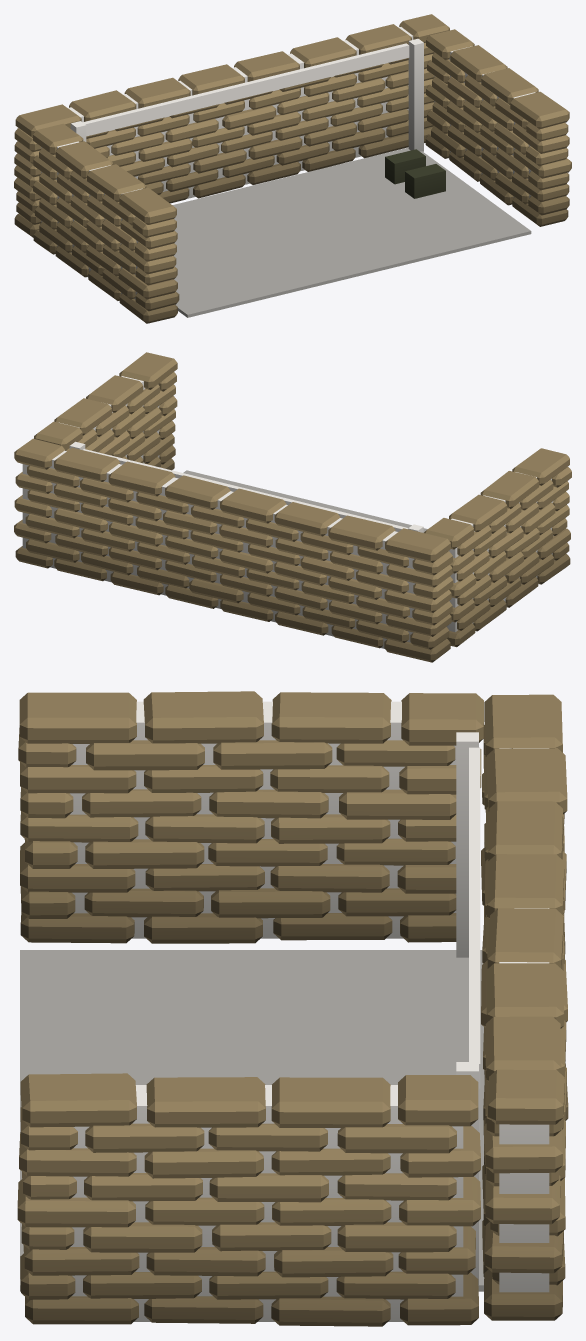
File: fighting_position.glb
The picture shows the model from 3 angles, top to bottom: view 1: azimuth 30°, elevation 25°; view 2: azimuth 150°, elevation 25°; view 3: azimuth 270°, elevation 25°; orthographic projection. The views are drawn at different scales.
Parts seen in each view (by area): view 1: fighting_position_LOD0; view 2: fighting_position_LOD0; view 3: fighting_position_LOD0.
Boxes of the visible parts, left/top/right/bottom form: fighting_position_LOD0: left=14, top=14, right=571, bottom=323; fighting_position_LOD0: left=14, top=352, right=571, bottom=662; fighting_position_LOD0: left=17, top=691, right=568, bottom=1326.
Size of what is drawn, in the model's own units: 4.37 by 1.11 by 2.43.
